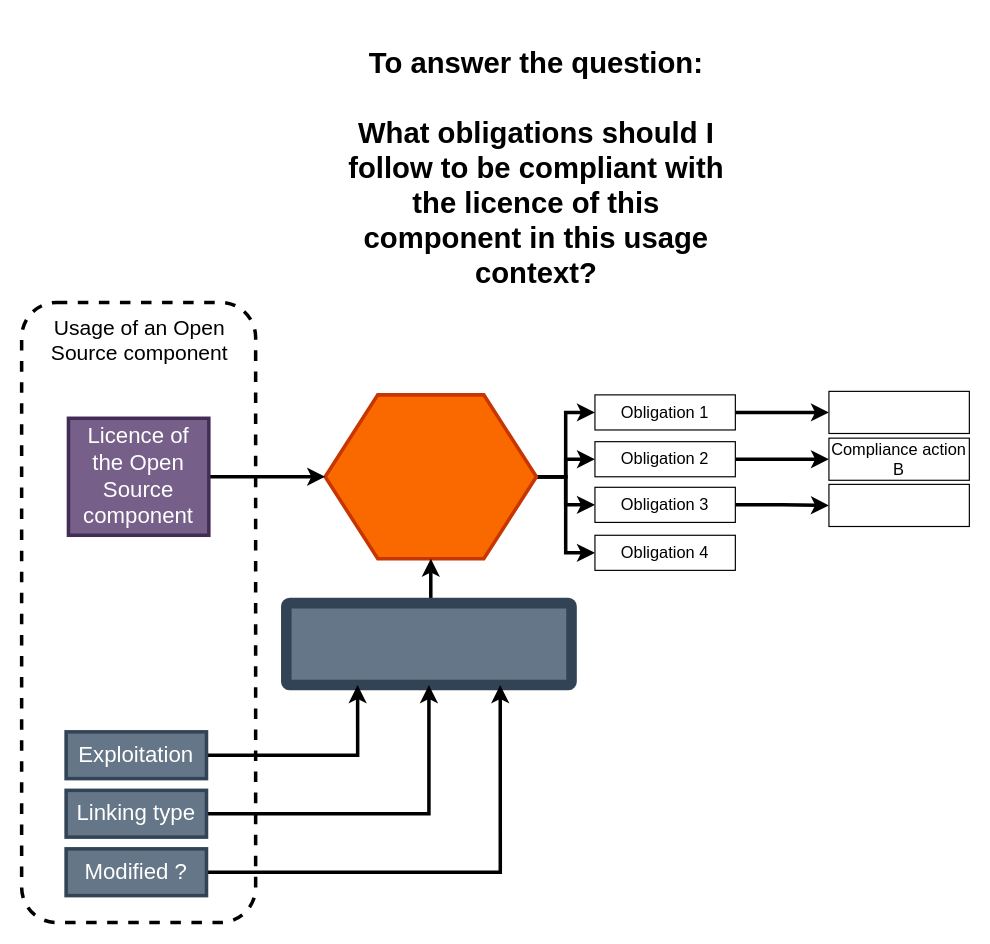
This 990x944 diagram has some shape labels left out. Here are the shapes that lost their labels. From the top down, the box of each, then its label:
(828, 390, 969, 433): Compliance action A
(323, 393, 538, 560): Licence Analysis
(828, 483, 969, 526): Compliance action C
(280, 597, 576, 690): Technical Context (triggering obligations)
